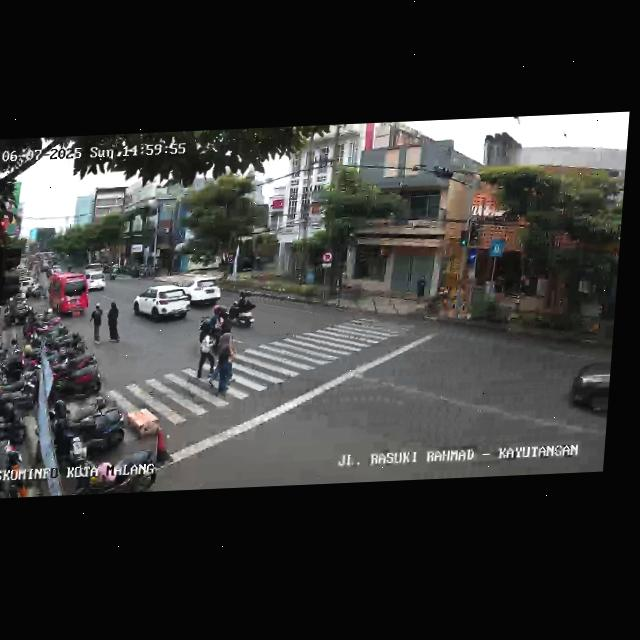car: (567, 355, 611, 430), (131, 284, 192, 328), (47, 272, 93, 320), (182, 277, 223, 309), (83, 272, 108, 293), (84, 263, 103, 275), (51, 265, 63, 274)
motorcycle: (225, 293, 257, 332), (109, 264, 118, 282)
person: (208, 321, 240, 388), (196, 321, 218, 382), (214, 333, 233, 399), (87, 302, 106, 347), (105, 301, 122, 345)
